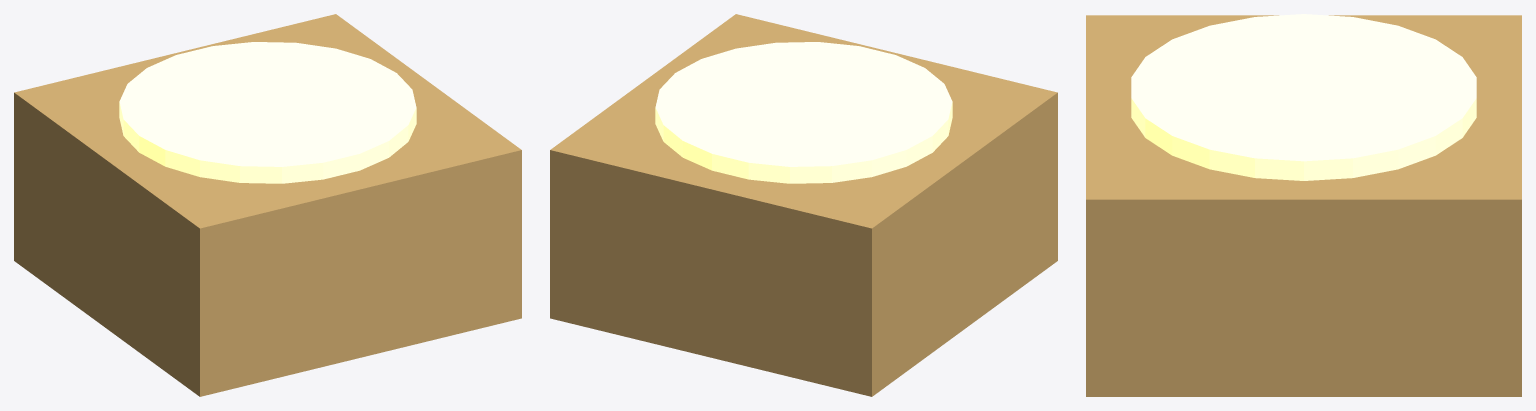
The model's file is TimedPulse_TopHalf.glb.
3 views of the same model, side by side, from view 1: azimuth 30°, elevation 25°; view 2: azimuth 150°, elevation 25°; view 3: azimuth 270°, elevation 25° (orthographic). The views are drawn at different scales.
Parts seen in each view (by area): view 1: TimedPulse_TopHalf_body, glow_disc.007; view 2: TimedPulse_TopHalf_body, glow_disc.007; view 3: TimedPulse_TopHalf_body, glow_disc.007.
Part boxes in pixels (x1,y1,x2,y2): TimedPulse_TopHalf_body: (14, 14, 521, 396); glow_disc.007: (119, 42, 416, 183); TimedPulse_TopHalf_body: (550, 14, 1057, 396); glow_disc.007: (655, 42, 952, 183); TimedPulse_TopHalf_body: (1086, 15, 1521, 396); glow_disc.007: (1131, 14, 1476, 180).
Bounding box in the file's own units: 1 × 0.55 × 1.
